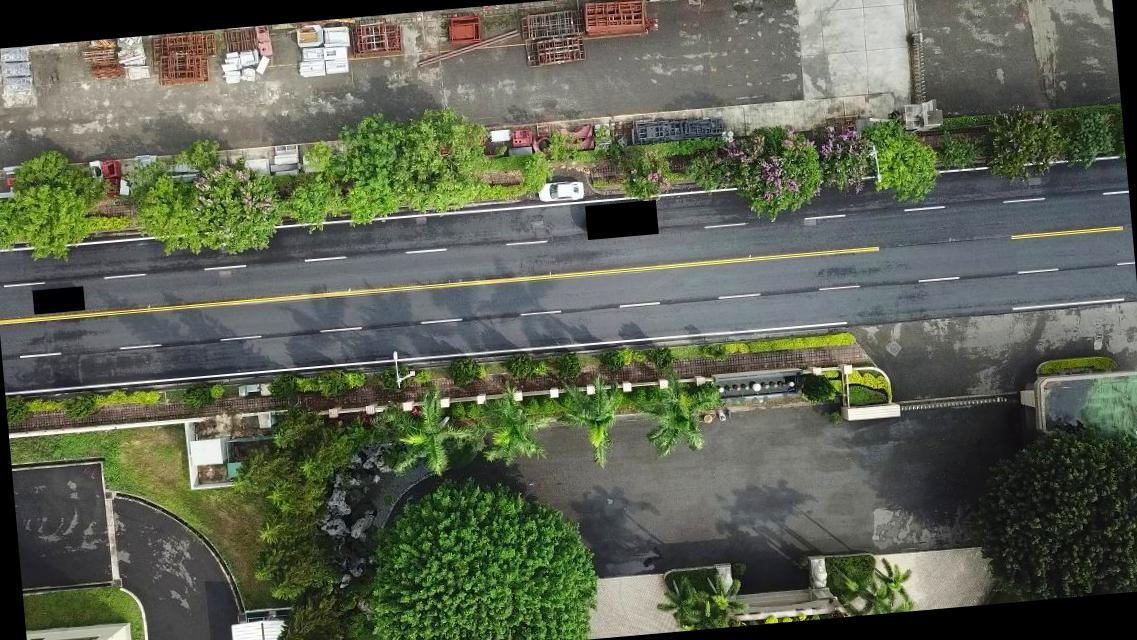vehicle: (535, 180, 586, 205)
